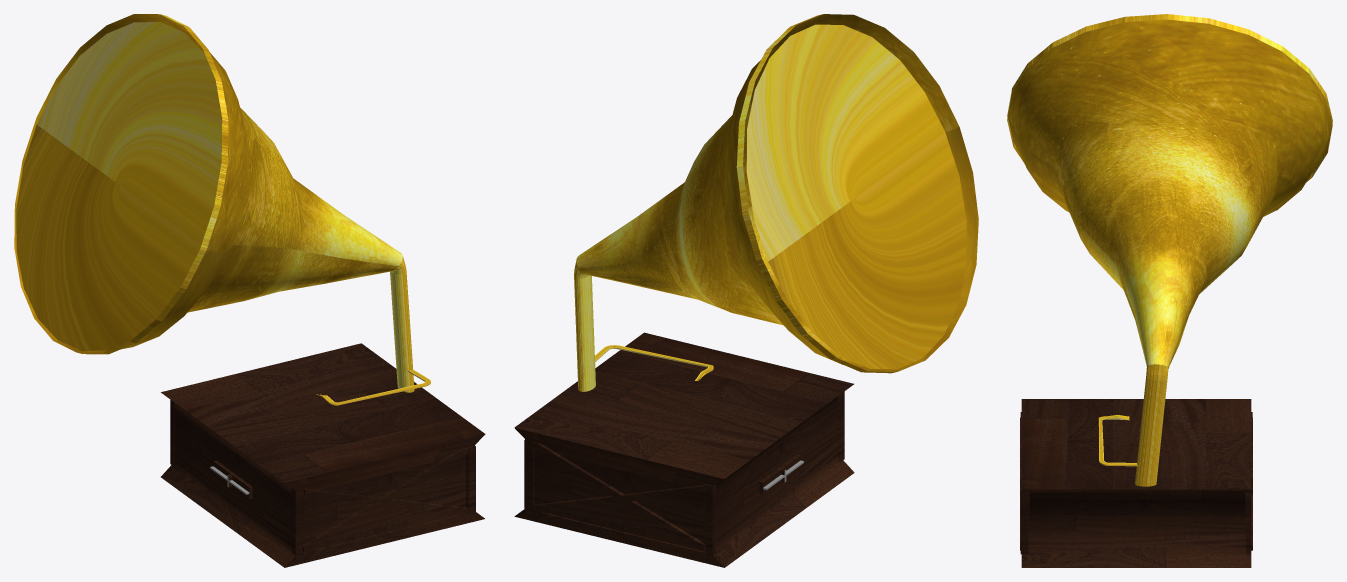
The model's file is laushinchi(nodvd).FBX.
3 views of the same model, side by side, from view 1: azimuth 30°, elevation 25°; view 2: azimuth 150°, elevation 25°; view 3: azimuth 270°, elevation 25° (orthographic). The views are drawn at different scales.
Visible parts, largest first — view 1: Cone003, Box001, Cone001; view 2: Cone003, Box001, Cone001; view 3: Cone001, Box001.
Boxes of the visible parts, x1=… form: Cone003: x1=16, y1=22, x2=222, y2=350; Box001: x1=161, y1=343, x2=485, y2=567; Cone001: x1=14, y1=14, x2=430, y2=405; Cone003: x1=746, y1=24, x2=966, y2=369; Box001: x1=514, y1=332, x2=854, y2=567; Cone001: x1=574, y1=14, x2=978, y2=391; Cone001: x1=1007, y1=14, x2=1332, y2=486; Box001: x1=1020, y1=399, x2=1252, y2=567.
Bounding box in the file's own units: 104 × 139 × 90.36.
